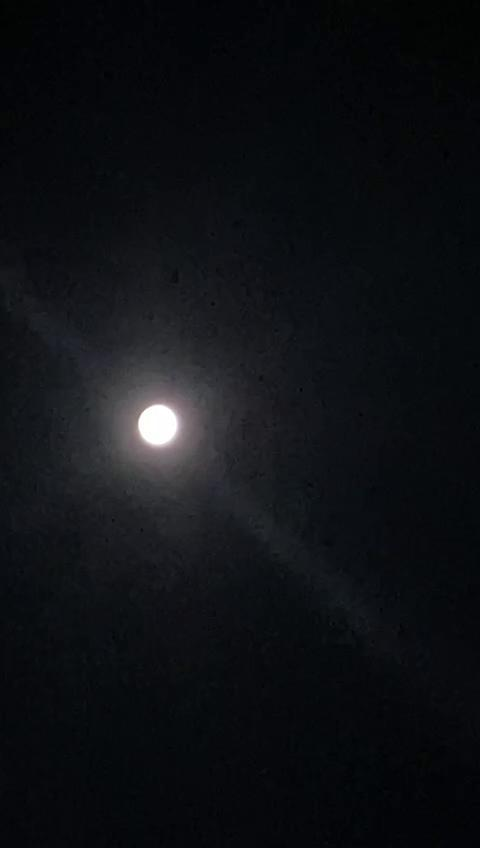moon: (119, 398, 182, 457)
